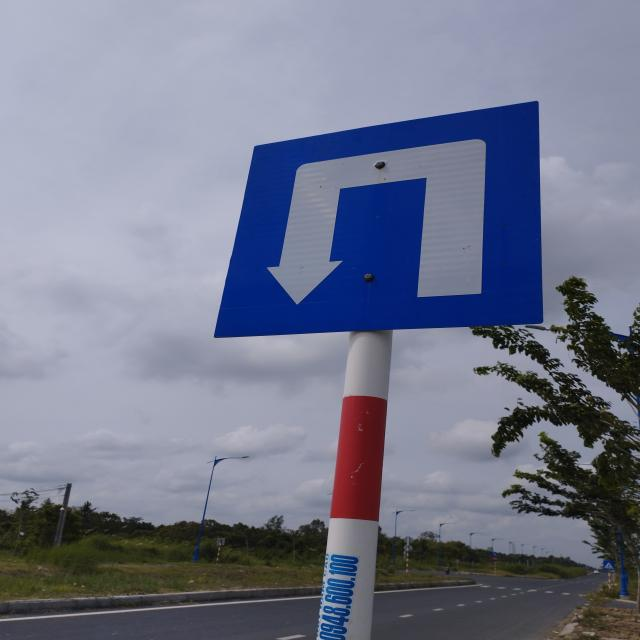Den_Giao_Thong: (214, 99, 540, 337)
